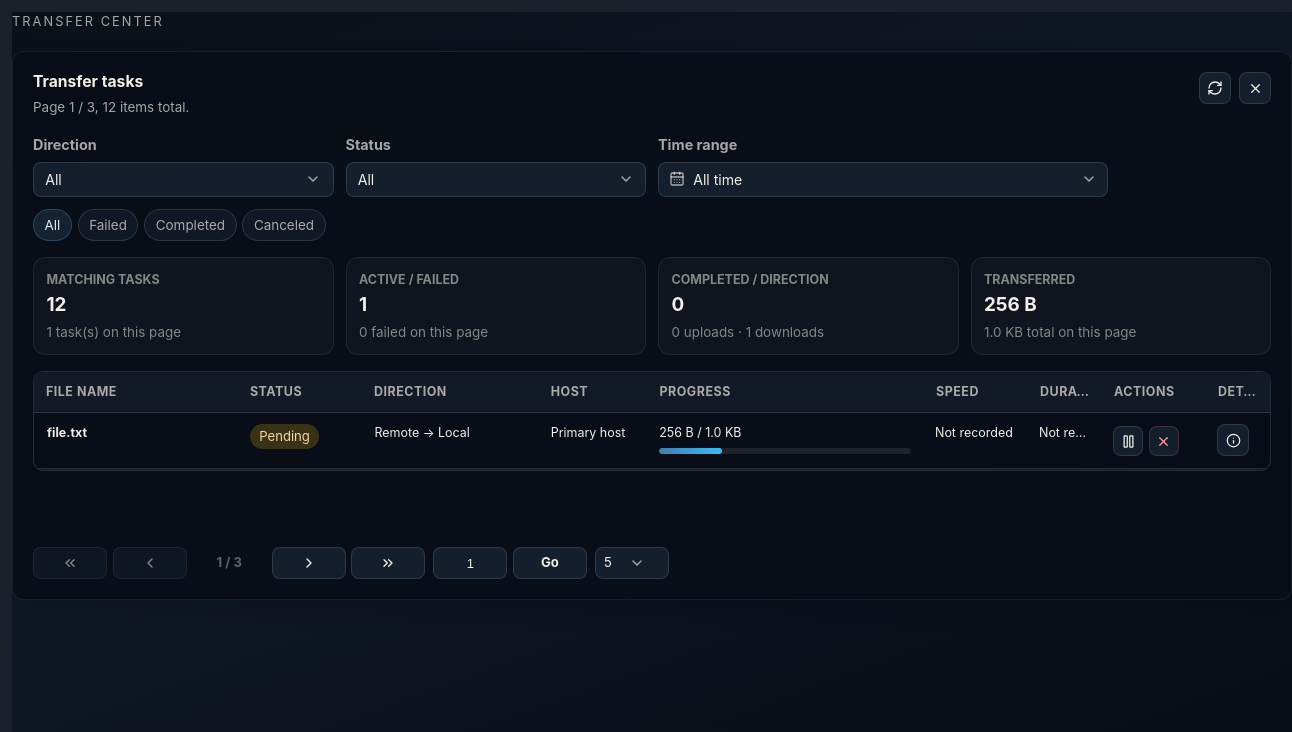
TransfersPage › shows localized status options without duplicating the direction filter
The image size is (1292, 732).
Click the dropdown named "Status" at point(366, 179), box x1=346 y1=162 x2=646 y2=197
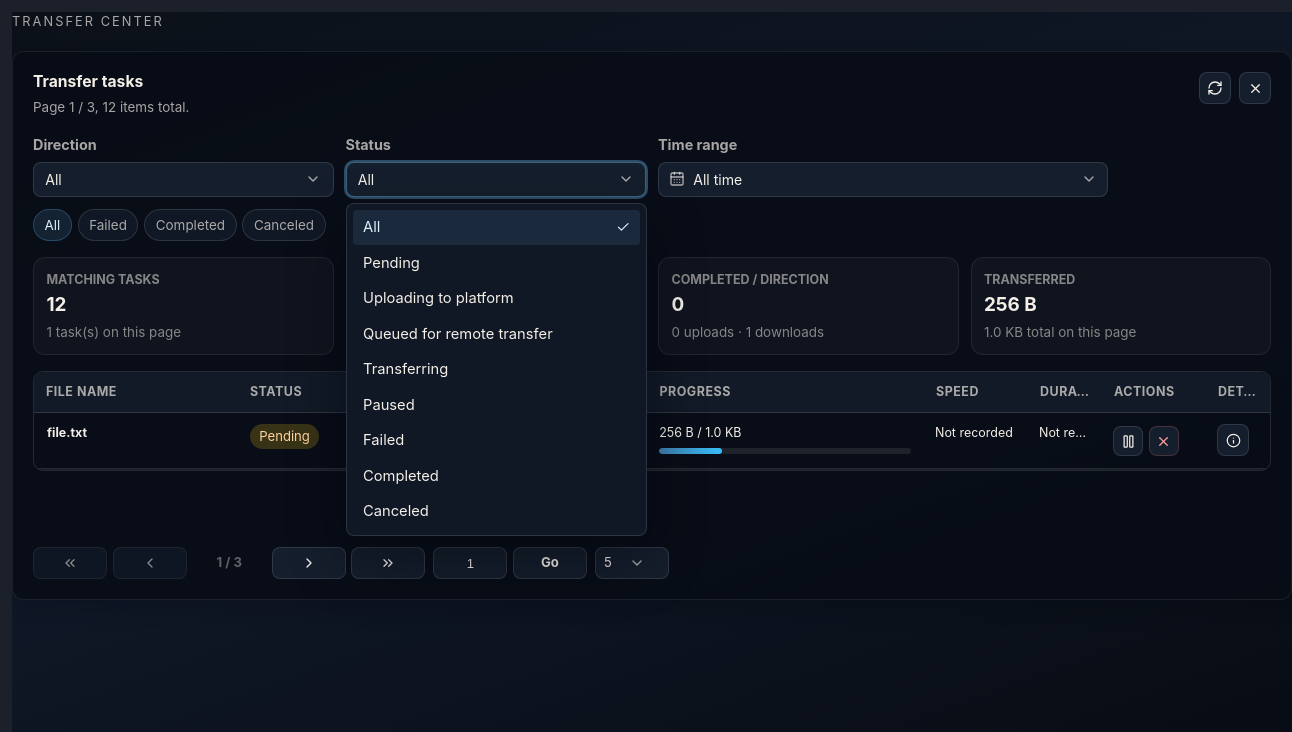
Check: the option "Transferring" is shown, box x1=363 y1=360 x2=448 y2=378
